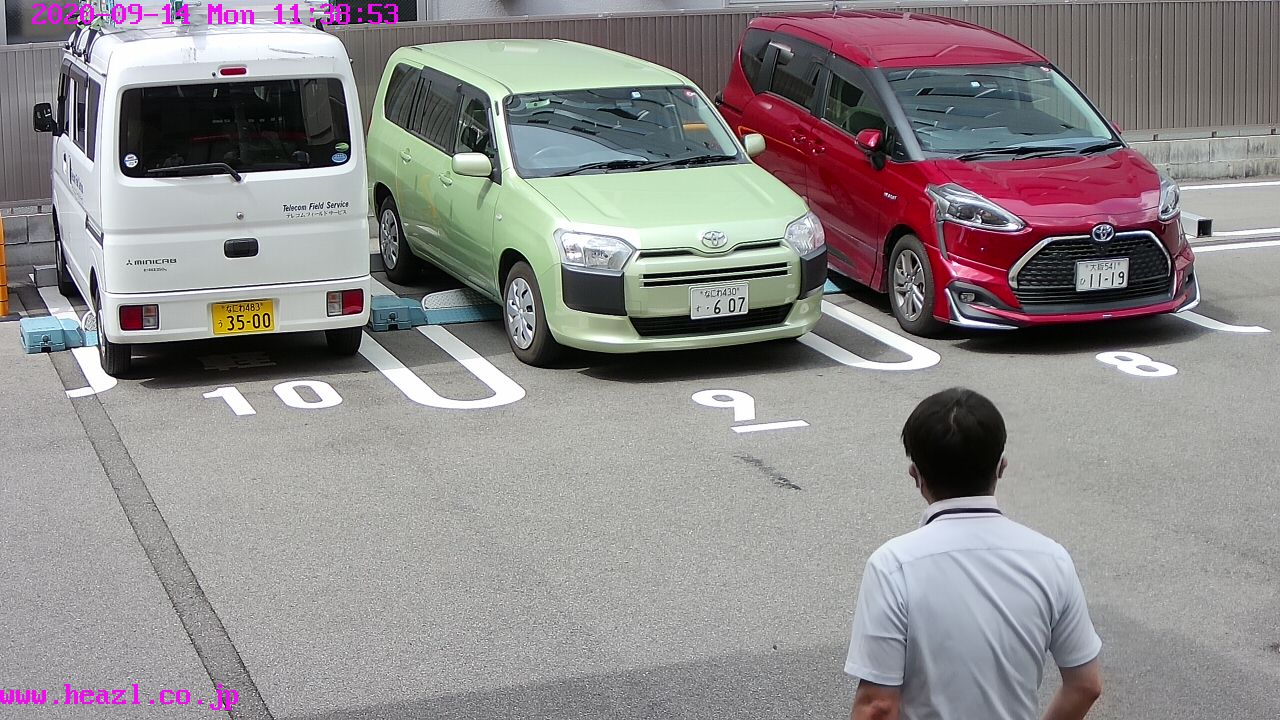number_plate: (212, 302, 276, 333), (691, 285, 749, 316), (1078, 261, 1130, 290)
